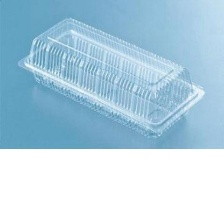plastic_box: (13, 12, 213, 147)
